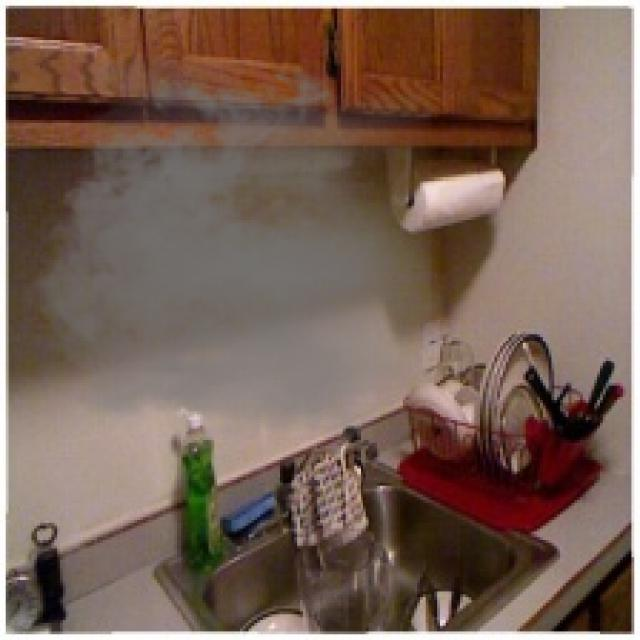smoke: (11, 57, 432, 440)
